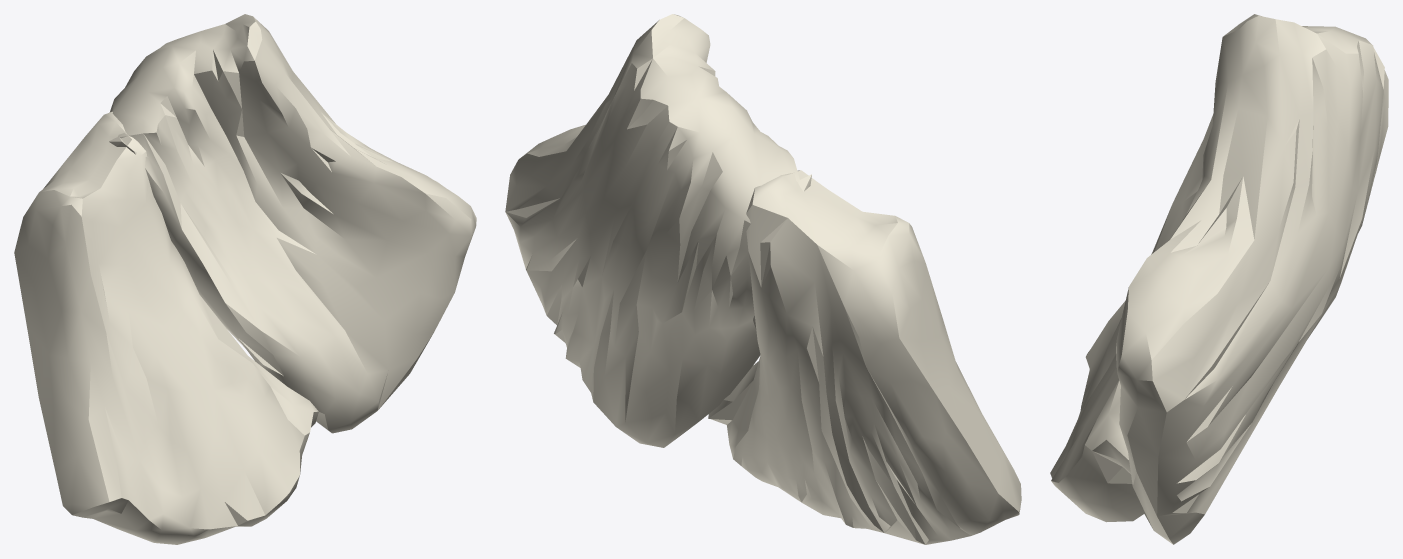
The model's file is fma73172_mm1467.glb.
The picture shows the model from 3 angles, left to right: view 1: azimuth 30°, elevation 25°; view 2: azimuth 150°, elevation 25°; view 3: azimuth 270°, elevation 25°; orthographic projection. The views are drawn at different scales.
Parts seen in each view (by area): view 1: FMA73172_MM1467; view 2: FMA73172_MM1467; view 3: FMA73172_MM1467.
Boxes of the visible parts, box(x1,y1,x2,y2) form: FMA73172_MM1467: box(14, 14, 476, 544); FMA73172_MM1467: box(505, 14, 1021, 544); FMA73172_MM1467: box(1050, 14, 1388, 544).
Size of the model in its own units: 0.00987 by 0.01 by 0.00559.
